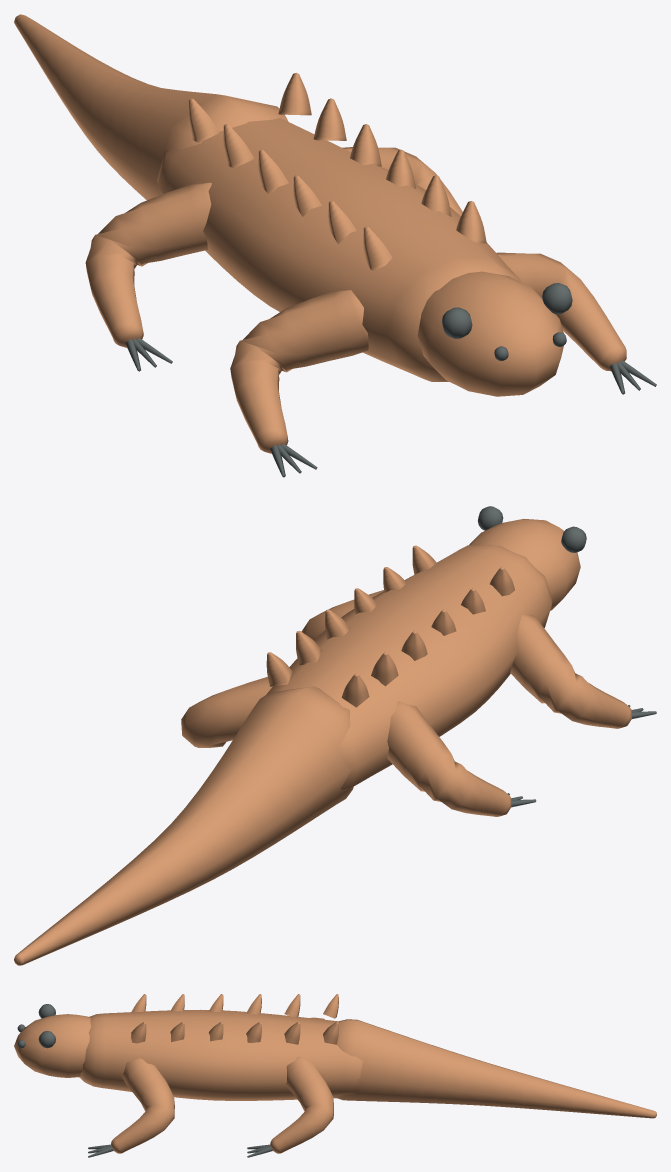
The model's file is outback-and-australian-wildlife-thorny-devil-4ea6e8de__5924.glb.
3 views of the same model, one above another, from view 1: azimuth 30°, elevation 25°; view 2: azimuth 150°, elevation 25°; view 3: azimuth 270°, elevation 25° (orthographic). The views are drawn at different scales.
Parts seen in each view (by area): view 1: thorny-devil; view 2: thorny-devil; view 3: thorny-devil.
Boxes of the visible parts, x1,y1,x2,y2 form: thorny-devil: (14,14,656,477); thorny-devil: (14,506,656,965); thorny-devil: (14,994,656,1157).
Bounding box in the file's own units: 0.0928 × 0.0429 × 0.2504.
